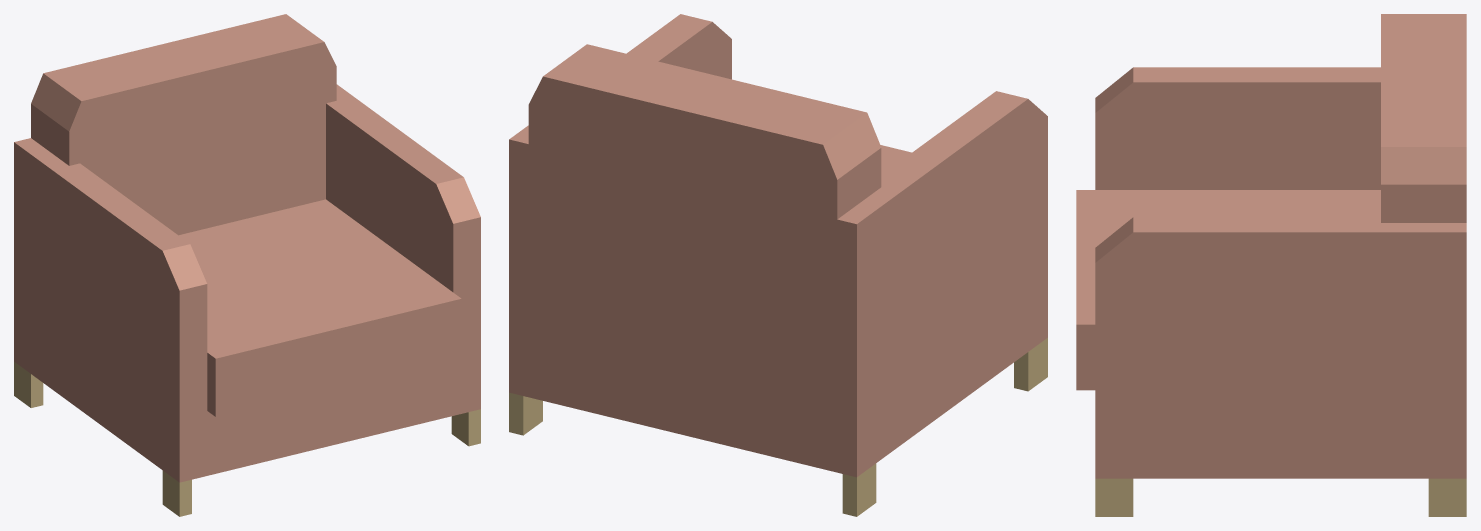
File: lounge-sofa.glb
3 views of the same model, side by side, from view 1: azimuth 30°, elevation 25°; view 2: azimuth 150°, elevation 25°; view 3: azimuth 270°, elevation 25° (orthographic). The views are drawn at different scales.
Bounding box in the file's own units: 1 × 1 × 1.
